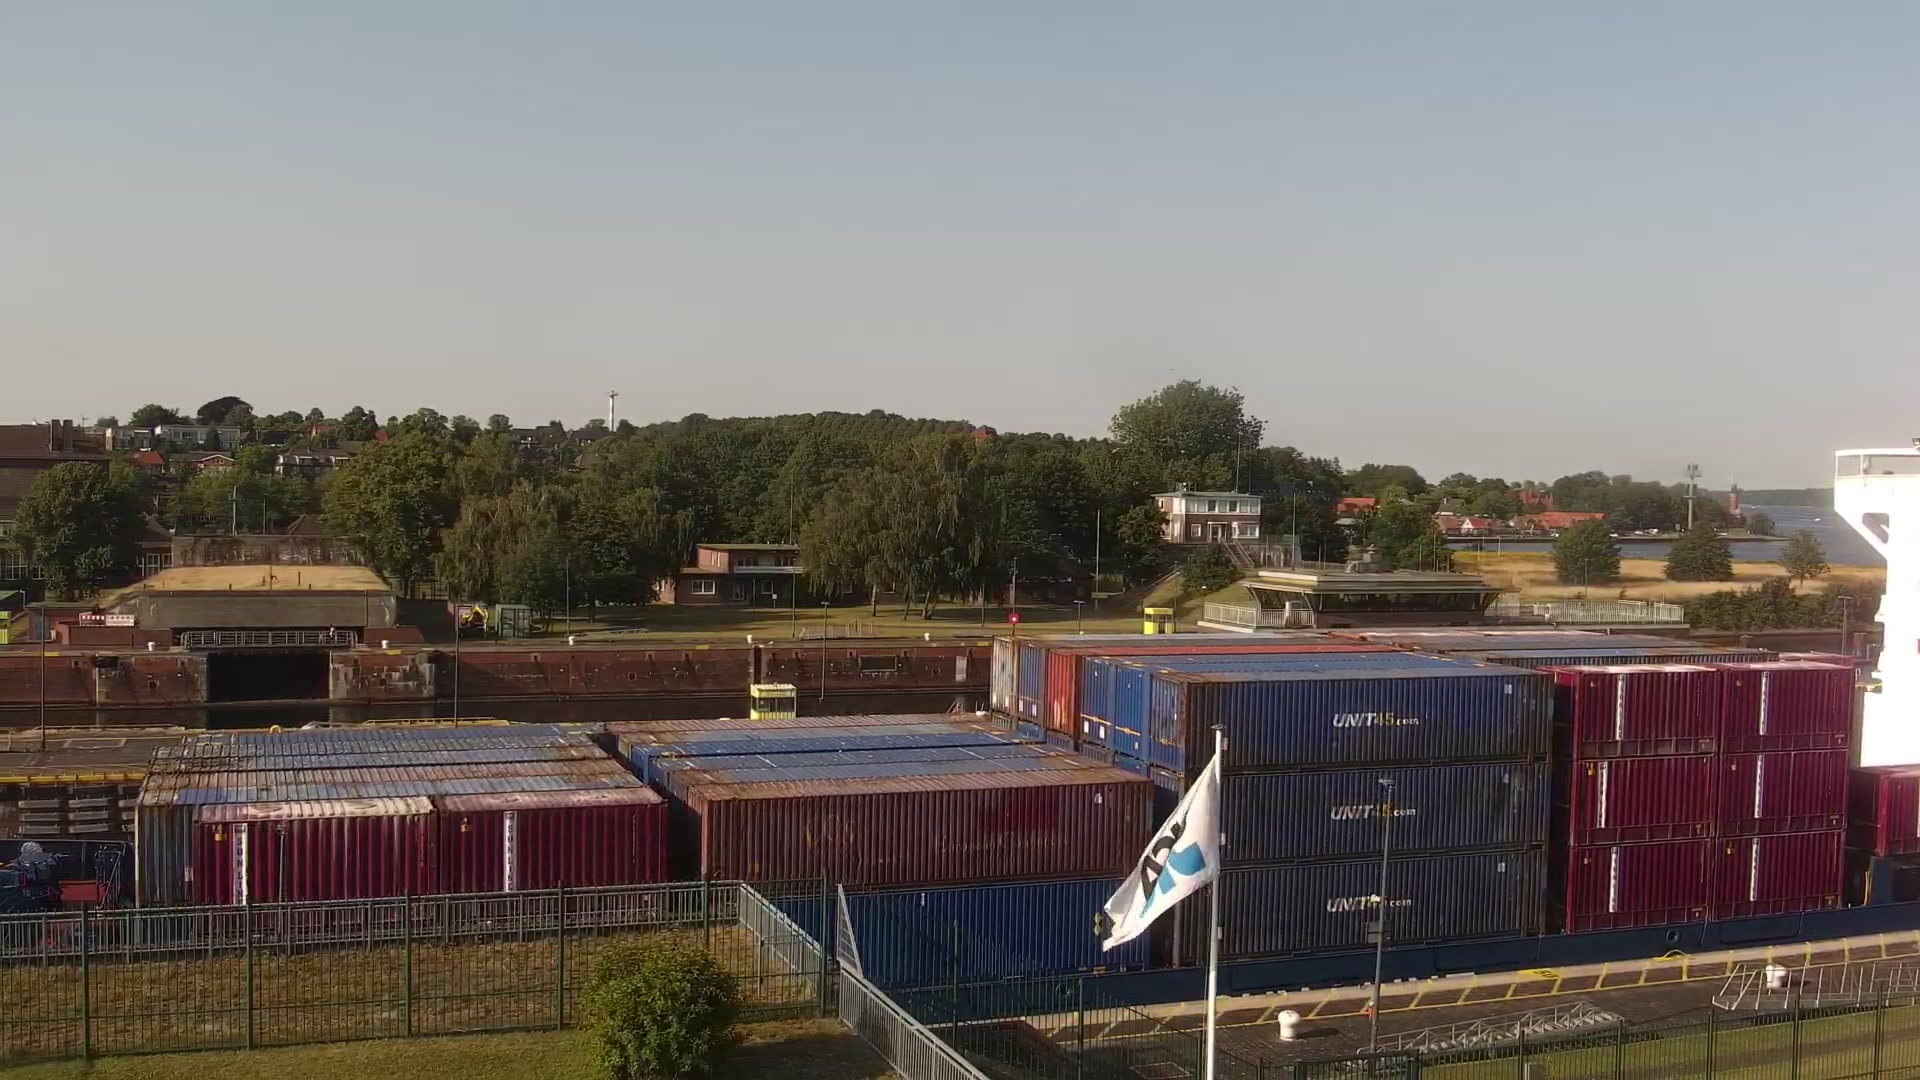land: (456, 603, 488, 640)
sea: (1, 427, 1920, 1031)
